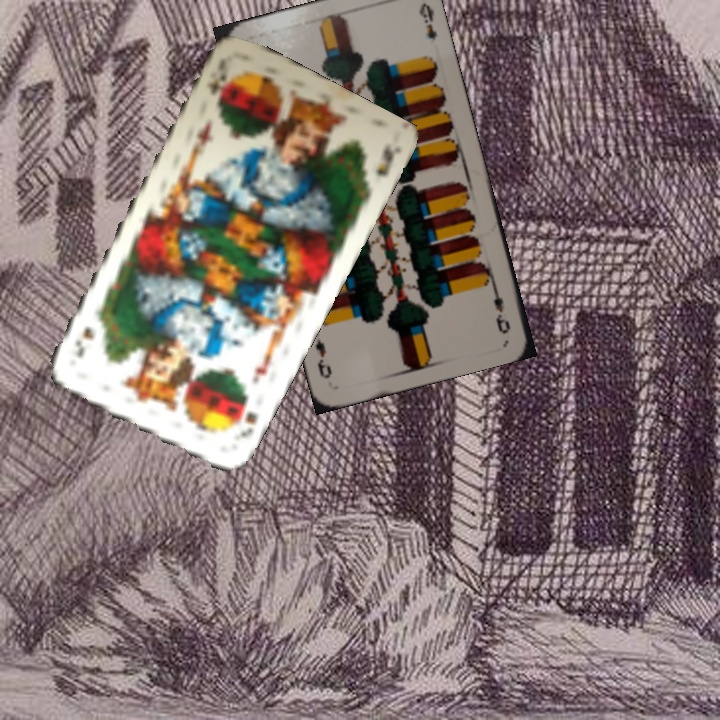E9: (487, 278, 513, 336)
SK: (227, 393, 261, 440), (202, 66, 231, 111)
